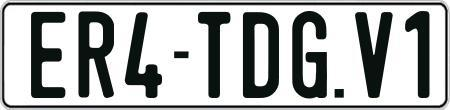1: (404, 8, 431, 95)
4: (124, 11, 167, 97)
D: (243, 12, 279, 101)
E: (31, 10, 71, 98)
G: (290, 10, 326, 103)
R: (79, 10, 114, 96)
T: (195, 11, 229, 97)
V: (355, 11, 394, 98)
